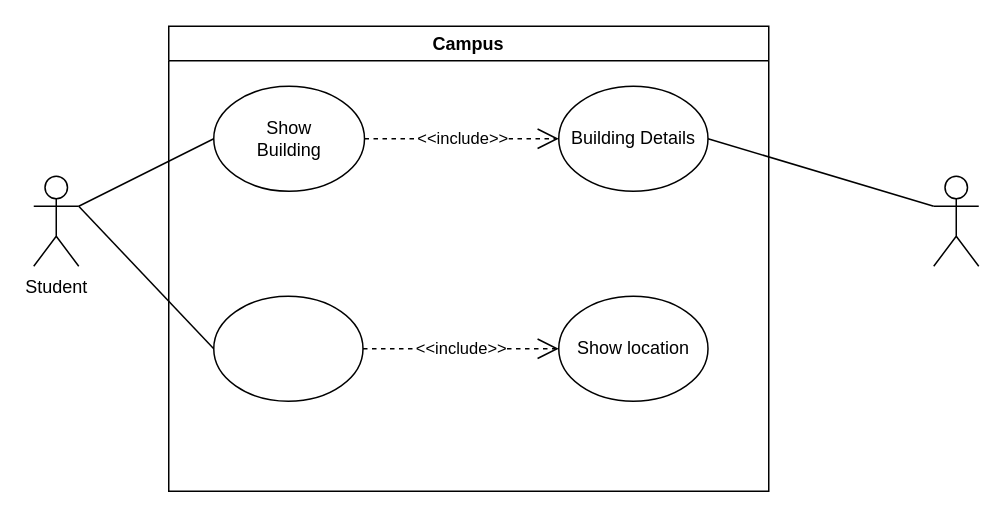
Some shapes in this 1008 by 518 pixel diagram are drawn without their labels. The box of each missing label's shape, as (x1, y1, x2, y2) in pixels:
Admin: (932, 175, 979, 266)
Show map: (212, 295, 363, 401)
